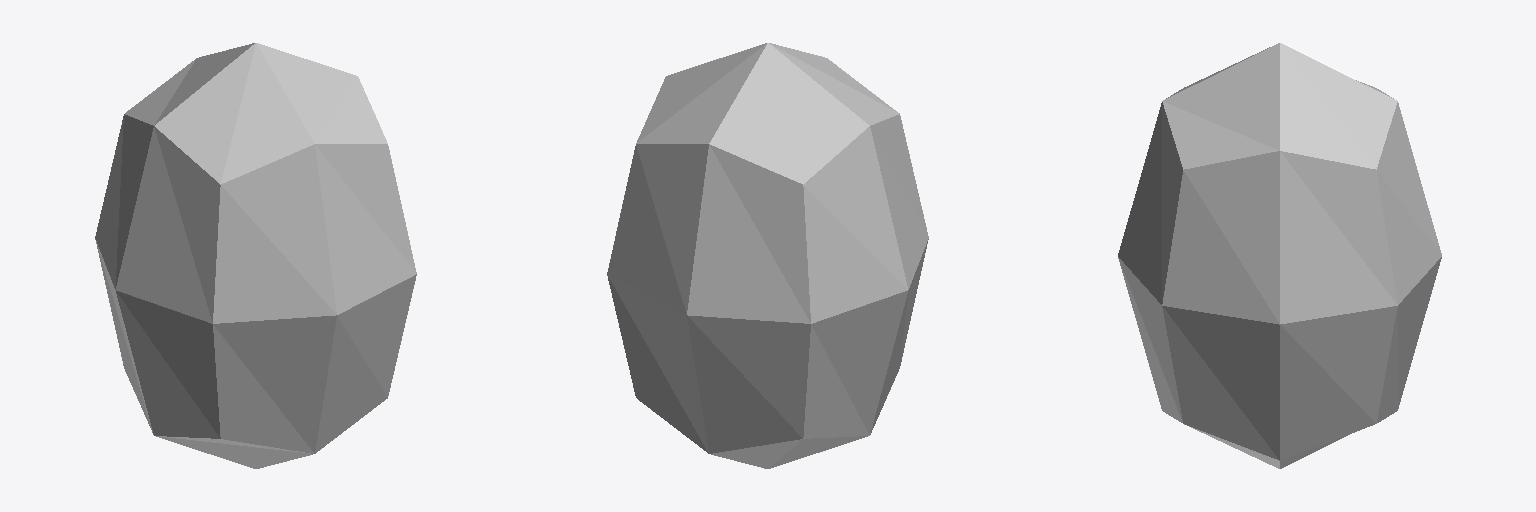
Rendered from misc018.obj.
The picture shows the model from 3 angles: view 1: azimuth 30°, elevation 25°; view 2: azimuth 150°, elevation 25°; view 3: azimuth 270°, elevation 25°; orthographic projection.
Visible parts, largest first — view 1: misc018; view 2: misc018; view 3: misc018.
Part boxes in pixels (left/top/right/bottom): misc018: left=95, top=43, right=416, bottom=468; misc018: left=607, top=43, right=928, bottom=468; misc018: left=1118, top=43, right=1441, bottom=468.
Size of the model in its own units: 0.0082 by 0.012 by 0.0082.